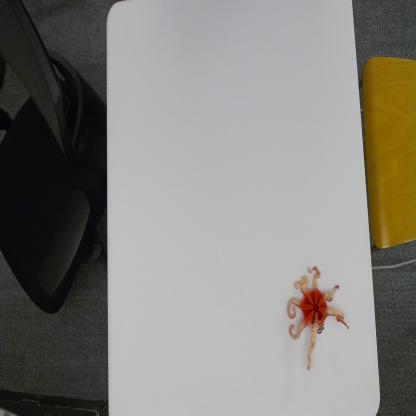Octopus: (286, 263, 350, 373)
